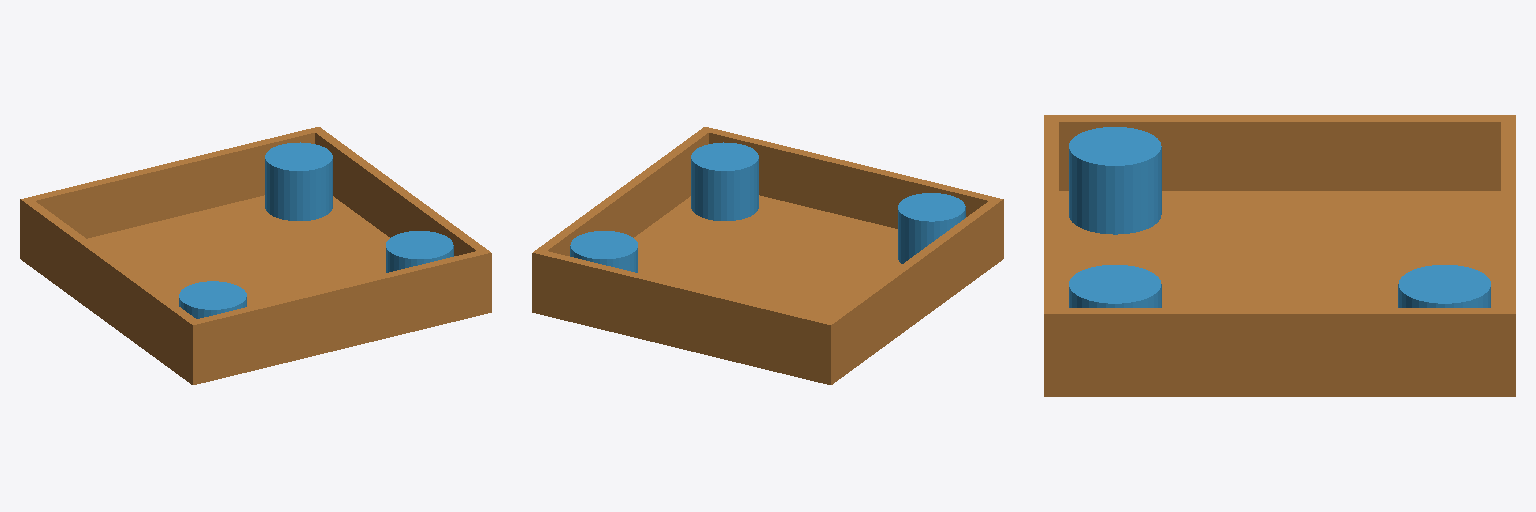
The robot description file, URDF, robot "one_leg_receptive_sdf_hybrid":
<robot name="one_leg_receptive_sdf_hybrid">
  <link name="receptive">
    <visual>
      <origin xyz="0.000000 0.000000 -0.013125" rpy="0.000000 0.000000 0.000000" />
      <geometry>
        <box size="0.162500 0.162501 0.005000" />
      </geometry>
      <material name="bulk" />
    </visual>
    <collision>
      <origin xyz="0.000000 0.000000 -0.013125" rpy="0.000000 0.000000 0.000000" />
      <geometry>
        <box size="0.162500 0.162501 0.005000" />
      </geometry>
    </collision>
    <visual>
      <origin xyz="0.000000 0.078751 0.002500" rpy="0.000000 0.000000 0.000000" />
      <geometry>
        <box size="0.162500 0.005000 0.026250" />
      </geometry>
      <material name="bulk" />
    </visual>
    <collision>
      <origin xyz="0.000000 0.078751 0.002500" rpy="0.000000 0.000000 0.000000" />
      <geometry>
        <box size="0.162500 0.005000 0.026250" />
      </geometry>
    </collision>
    <visual>
      <origin xyz="0.000000 -0.078751 0.002500" rpy="0.000000 0.000000 0.000000" />
      <geometry>
        <box size="0.162500 0.005000 0.026250" />
      </geometry>
      <material name="bulk" />
    </visual>
    <collision>
      <origin xyz="0.000000 -0.078751 0.002500" rpy="0.000000 0.000000 0.000000" />
      <geometry>
        <box size="0.162500 0.005000 0.026250" />
      </geometry>
    </collision>
    <visual>
      <origin xyz="0.078750 0.000000 0.002500" rpy="0.000000 0.000000 0.000000" />
      <geometry>
        <box size="0.005000 0.152501 0.026250" />
      </geometry>
      <material name="bulk" />
    </visual>
    <collision>
      <origin xyz="0.078750 0.000000 0.002500" rpy="0.000000 0.000000 0.000000" />
      <geometry>
        <box size="0.005000 0.152501 0.026250" />
      </geometry>
    </collision>
    <visual>
      <origin xyz="-0.078750 0.000000 0.002500" rpy="0.000000 0.000000 0.000000" />
      <geometry>
        <box size="0.005000 0.152501 0.026250" />
      </geometry>
      <material name="bulk" />
    </visual>
    <collision>
      <origin xyz="-0.078750 0.000000 0.002500" rpy="0.000000 0.000000 0.000000" />
      <geometry>
        <box size="0.005000 0.152501 0.026250" />
      </geometry>
    </collision>
    <visual>
      <origin xyz="0.000000 0.000000 0.000000" rpy="0.000000 0.000000 0.000000" />
      <geometry>
        <mesh filename="../hole_patches/sdf_hybrid/one_leg_hole_detail.obj" scale="1 1 1" />
      </geometry>
      <material name="hole_detail" />
    </visual>
    <collision>
      <origin xyz="0.000000 0.000000 0.000000" rpy="0.000000 0.000000 0.000000" />
      <geometry>
        <mesh filename="../hole_patches/sdf_hybrid/one_leg_hole_detail.obj" scale="1 1 1" />
      </geometry>
      <sdf resolution="256" />
    </collision>
    
    <visual name="hole_inact_0_v">
      <origin xyz="0.05625 0.05687 0.002" rpy="0 0 0" />
      <geometry><cylinder radius="0.016" length="0.027" /></geometry>
      <material name="hole_detail" />
    </visual>
    <collision name="hole_inact_0_c">
      <origin xyz="0.05625 0.05687 0.002" rpy="0 0 0" />
      <geometry><box size="0.032000 0.032000 0.027000" /></geometry>
    </collision>
    <visual name="hole_inact_1_v">
      <origin xyz="-0.05625 -0.05687 0.002" rpy="0 0 0" />
      <geometry><cylinder radius="0.016" length="0.027" /></geometry>
      <material name="hole_detail" />
    </visual>
    <collision name="hole_inact_1_c">
      <origin xyz="-0.05625 -0.05687 0.002" rpy="0 0 0" />
      <geometry><box size="0.032000 0.032000 0.027000" /></geometry>
    </collision>
    <visual name="hole_inact_2_v">
      <origin xyz="0.05625 -0.05687 0.002" rpy="0 0 0" />
      <geometry><cylinder radius="0.016" length="0.027" /></geometry>
      <material name="hole_detail" />
    </visual>
    <collision name="hole_inact_2_c">
      <origin xyz="0.05625 -0.05687 0.002" rpy="0 0 0" />
      <geometry><box size="0.032000 0.032000 0.027000" /></geometry>
    </collision>
  </link>
  <material name="bulk">
    <color rgba="0.78 0.55 0.30 1.0" />
  </material>
  <material name="hole_detail">
    <color rgba="0.30 0.65 0.85 1.0" />
  </material>
</robot>

--- What the picture shows (computed from the rendered views, not written in the file) ---
The picture shows the robot from 3 angles, left to right: view 1: azimuth 30°, elevation 25°; view 2: azimuth 150°, elevation 25°; view 3: azimuth 270°, elevation 25°; orthographic projection.
Robot: one_leg_receptive_sdf_hybrid — 1 links, 0 joints (none); root link receptive; default pose: all joints at 0.
Visible links, largest first — view 1: receptive; view 2: receptive; view 3: receptive.
Boxes of the visible links, x1=… form: receptive: x1=20, y1=127, x2=491, y2=384; receptive: x1=532, y1=127, x2=1003, y2=384; receptive: x1=1044, y1=115, x2=1515, y2=396.
Size in the robot's own frame: 0.1625 by 0.1625 by 0.0312 metres.
Meshes: 1 distinct files referenced, 0 mesh visuals loaded (none loaded); not drawn: 1 (reference not matched to a file when rendering).
